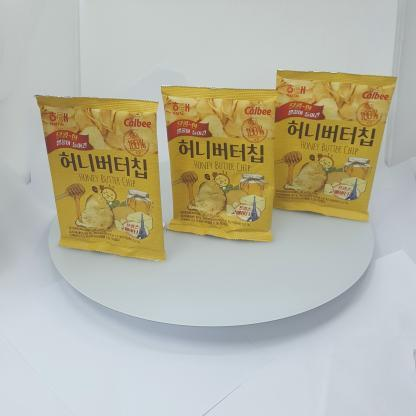Plastic Packaging: (33, 84, 165, 266), (270, 71, 394, 213), (174, 81, 282, 235)
